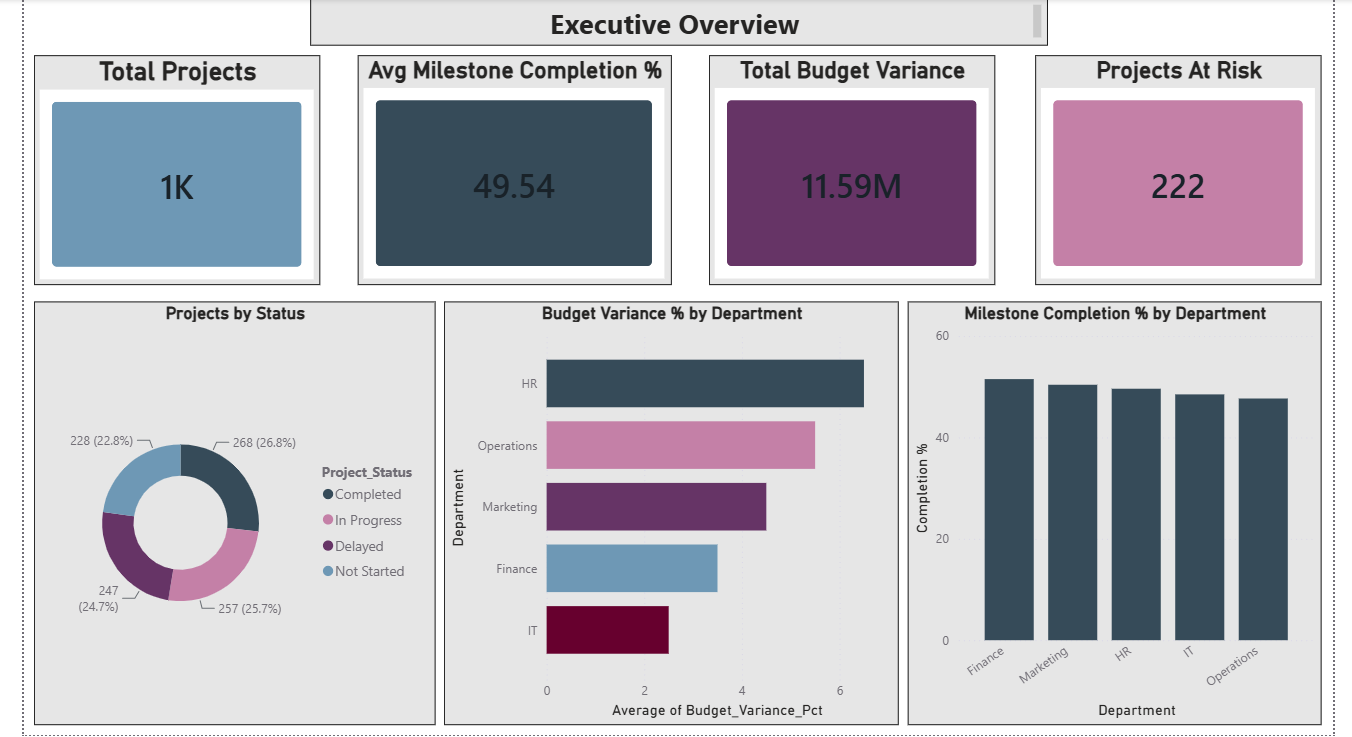

This screenshot's page, from the dashboard's own definition file:
{"tool":"powerbi","page":{"name":"Executive Overview","canvas":[1280,720],"ordinal":0},"visuals":[{"type":"cardVisual","title":"Total Projects","fields":{"Data":["CountNonNull(project_portfolio_clean.Project_ID)"]},"box":[9.8,55,280,225],"z":0},{"type":"cardVisual","title":"Avg Milestone Completion %","fields":{"Data":["Avg(project_portfolio_clean.Milestone_Completion_Pct)"]},"box":[326.5,55,306.9,225],"z":1000},{"type":"cardVisual","title":"Total Budget Variance","fields":{"Data":["Sum(project_portfolio_clean.Budget_Variance)"]},"box":[670.1,55,280,225],"z":2000},{"type":"cardVisual","title":"Projects At Risk","fields":{"Data":["project_portfolio_clean.Projects At Risk"]},"box":[989.3,55,280,225],"z":3000},{"type":"textbox","box":[280,0,721.5,45.2],"z":4000},{"type":"donutChart","title":"Projects by Status","fields":{"Category":["project_portfolio_clean.Project_Status"],"Y":["CountNonNull(project_portfolio_clean.Project_ID)"]},"box":[9.8,295.9,392.5,414.5],"z":5000},{"type":"clusteredBarChart","title":"Budget Variance % by Department","fields":{"Category":["project_portfolio_clean.Department"],"Y":["Avg(project_portfolio_clean.Budget_Variance_Pct)"]},"box":[410.9,295.9,445.1,414.5],"z":6000},{"type":"clusteredColumnChart","title":"Milestone Completion % by Department","fields":{"Category":["project_portfolio_clean.Department"],"Y":["Avg(project_portfolio_clean.Milestone_Completion_Pct)"]},"box":[864.5,295.9,404.8,414.5],"z":7000}]}

Visuals, with their boxes on the page's 1280x720 design canvas (x1, y1, x2, y2). These are canvas units, not pixel positions in the 1352x737 screenshot, which may show the page scaled, cropped or inside an application window:
"Total Projects" cardVisual: l=10, t=55, r=290, b=280
"Avg Milestone Completion %" cardVisual: l=326, t=55, r=633, b=280
"Total Budget Variance" cardVisual: l=670, t=55, r=950, b=280
"Projects At Risk" cardVisual: l=989, t=55, r=1269, b=280
textbox: l=280, t=0, r=1002, b=45
"Projects by Status" donutChart: l=10, t=296, r=402, b=710
"Budget Variance % by Department" clusteredBarChart: l=411, t=296, r=856, b=710
"Milestone Completion % by Department" clusteredColumnChart: l=864, t=296, r=1269, b=710
